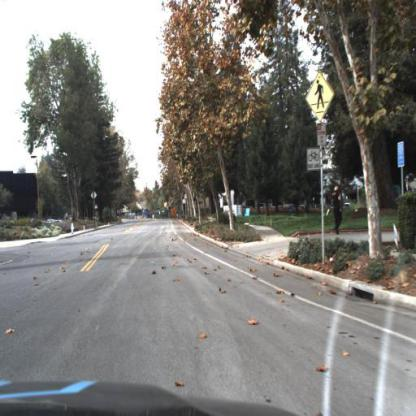pedestrian: (333, 185, 343, 236)
